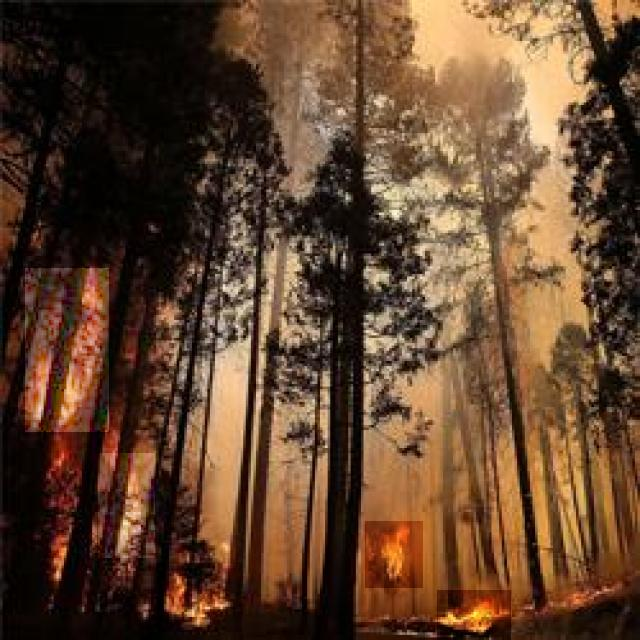Fire: (25, 268, 109, 432), (98, 453, 155, 558), (158, 562, 242, 632), (365, 521, 423, 588), (437, 590, 511, 640), (37, 521, 69, 568)
